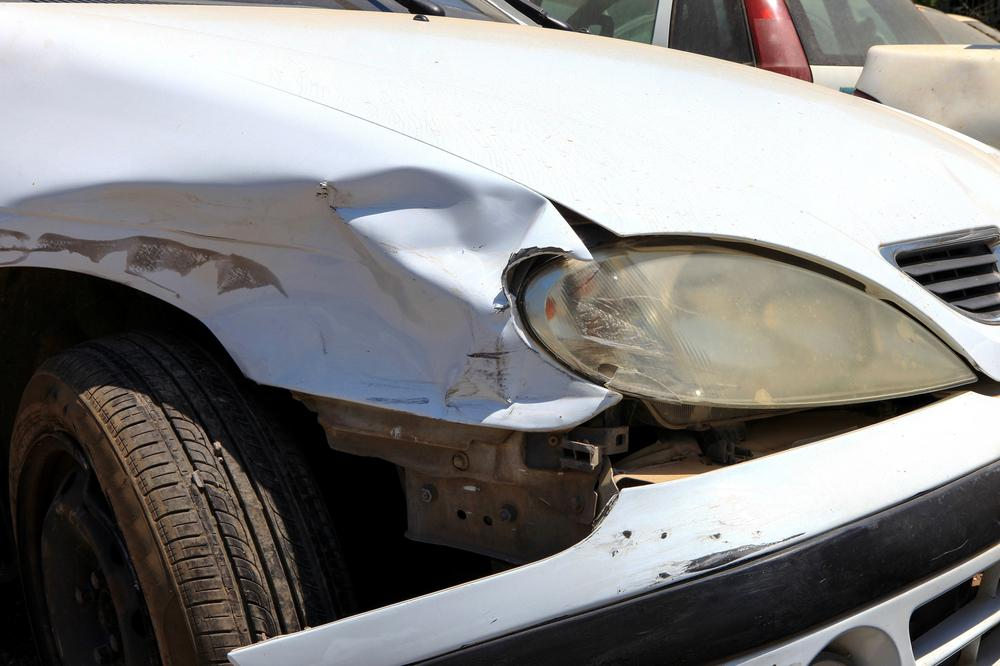dent: (0, 168, 625, 432)
lamp broken: (501, 247, 989, 403)
scratch: (597, 501, 809, 597)
